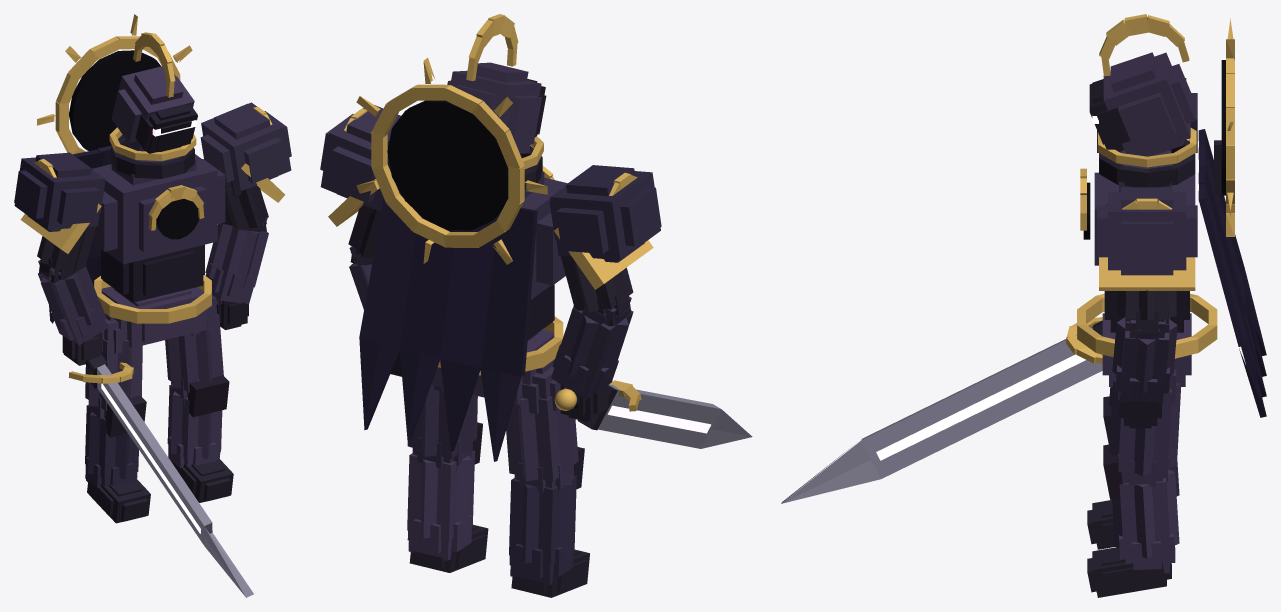
3 views of the same model, side by side, from view 1: azimuth 30°, elevation 25°; view 2: azimuth 150°, elevation 25°; view 3: azimuth 270°, elevation 25° (orthographic). The views are drawn at different scales.
Visible parts, largest first — view 1: EclipseKnight; view 2: EclipseKnight; view 3: EclipseKnight.
Boxes of the visible parts, x1=… form: EclipseKnight: x1=14, y1=14, x2=291, y2=597; EclipseKnight: x1=320, y1=14, x2=752, y2=597; EclipseKnight: x1=781, y1=14, x2=1266, y2=597.
Size of the model in its own units: 0.9002 by 1.55 by 1.24.
